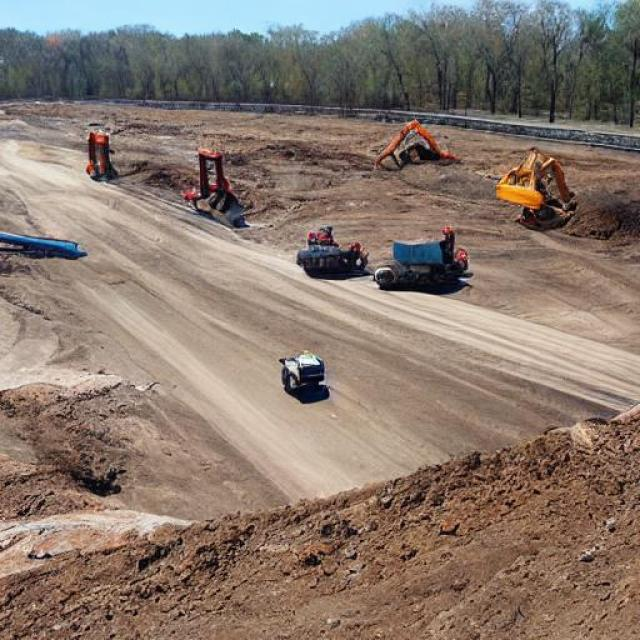excavator: (160, 169, 450, 560), (119, 169, 469, 408), (157, 97, 403, 236)
